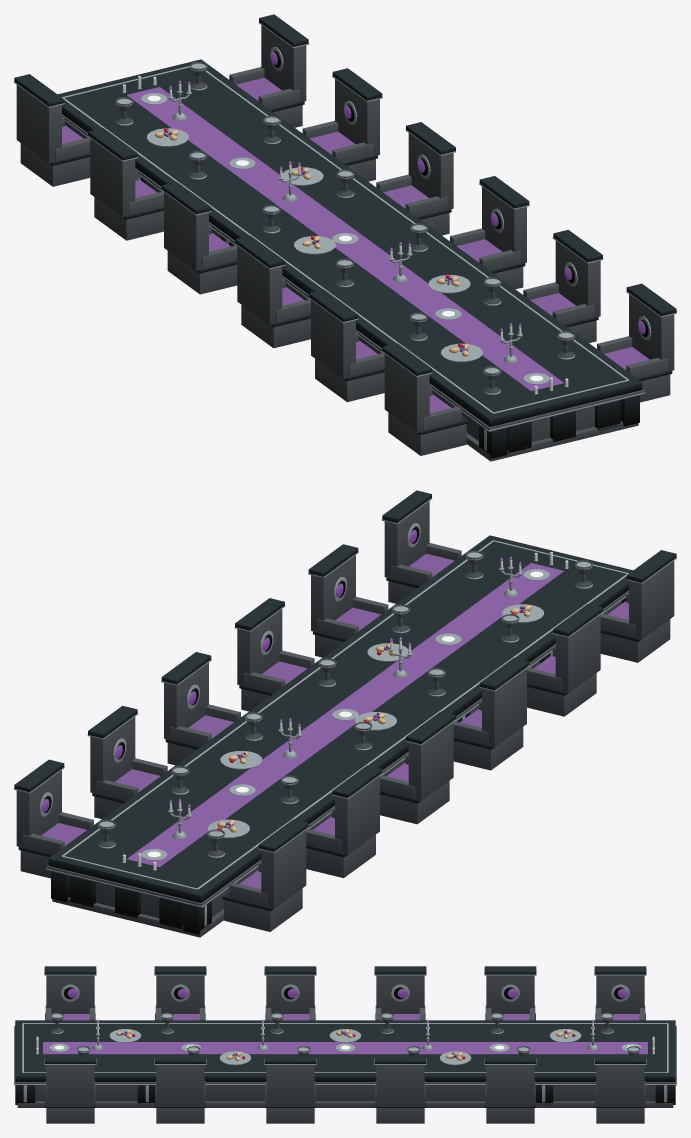
Rendered from long_table.glb.
The picture shows the model from 3 angles, top to bottom: view 1: azimuth 30°, elevation 25°; view 2: azimuth 150°, elevation 25°; view 3: azimuth 270°, elevation 25°; orthographic projection. The views are drawn at different scales.
Visible parts, largest first — view 1: long_table; view 2: long_table; view 3: long_table.
Boxes of the visible parts, x1,y1,x2,y2 form: long_table: (14, 14, 676, 461); long_table: (14, 490, 676, 937); long_table: (14, 966, 676, 1123).
Bounding box in the file's own units: 20.44 × 6.75 × 60.26.
8 materials, 8 textured.
